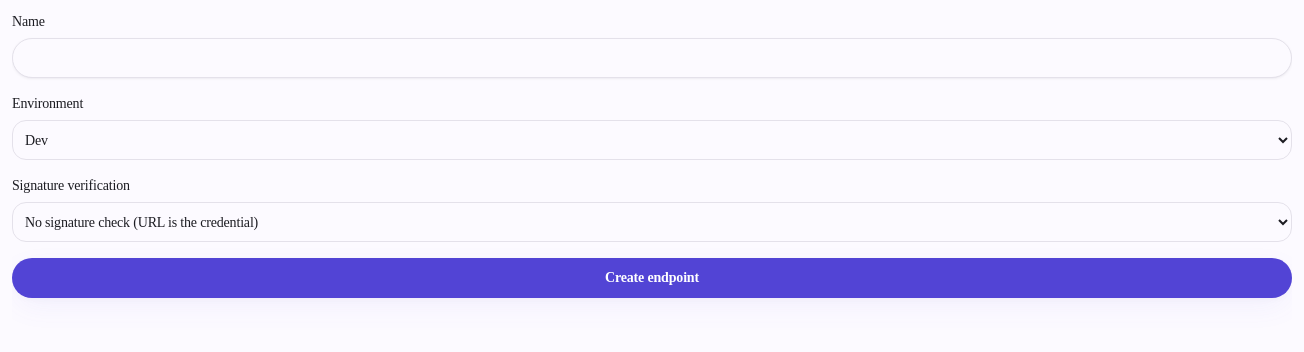
CreateHookEndpointForm › shows an inline error when creation fails
In the field labelled "Name": coordinates (652, 58) [12, 38, 1292, 78], type "X"
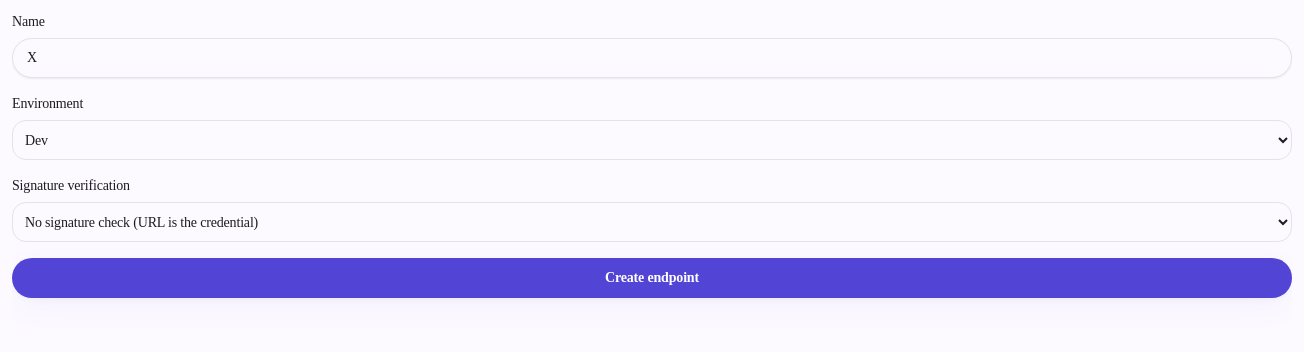
Click the button "Create endpoint": coordinates (652, 278) [12, 258, 1292, 298]
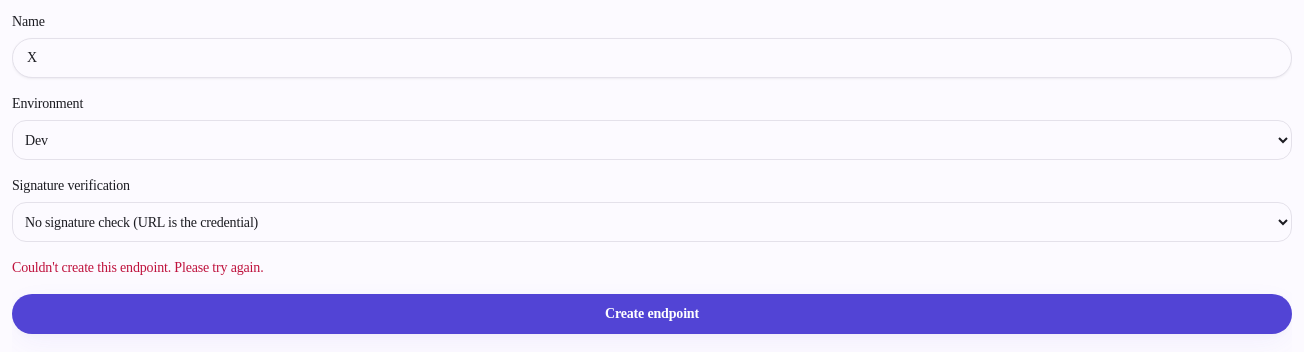
Expected: the message reads "Couldn't create this endpoint. Please try again.", [12, 260, 264, 275]
